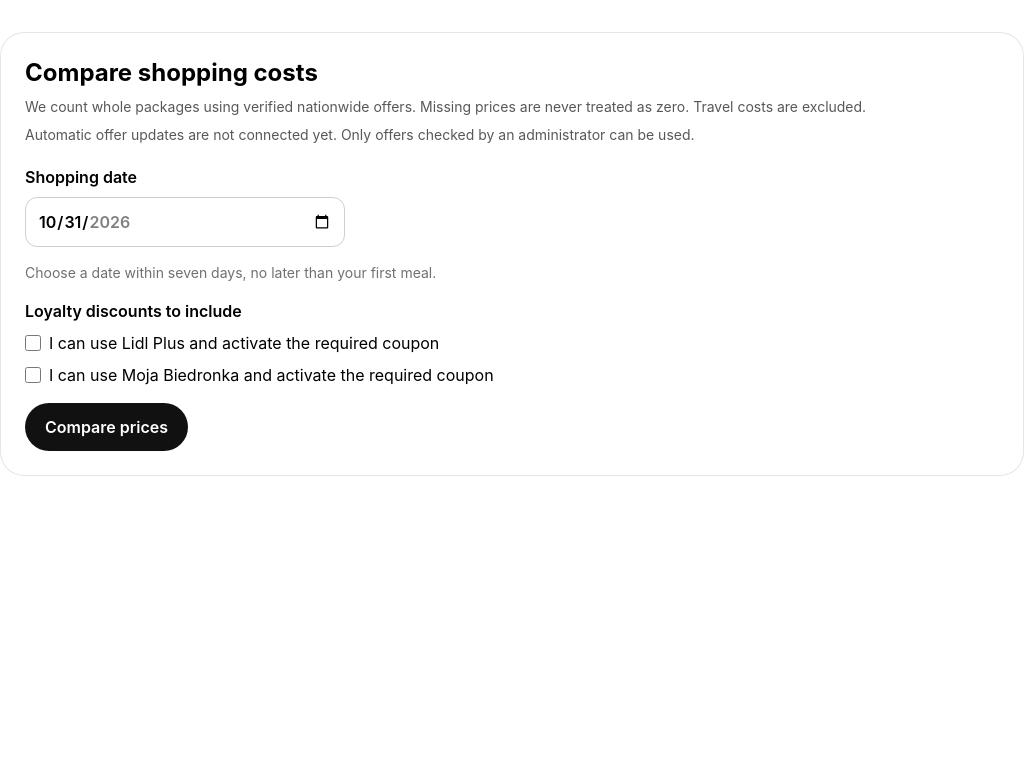
Meal plan pricing › does not present missing prices as a free basket or confirm budget
The width and height of the screenshot is (1024, 768).
Click the button "Compare prices" at x=106, y=427, box left=25, top=403, right=188, bottom=451
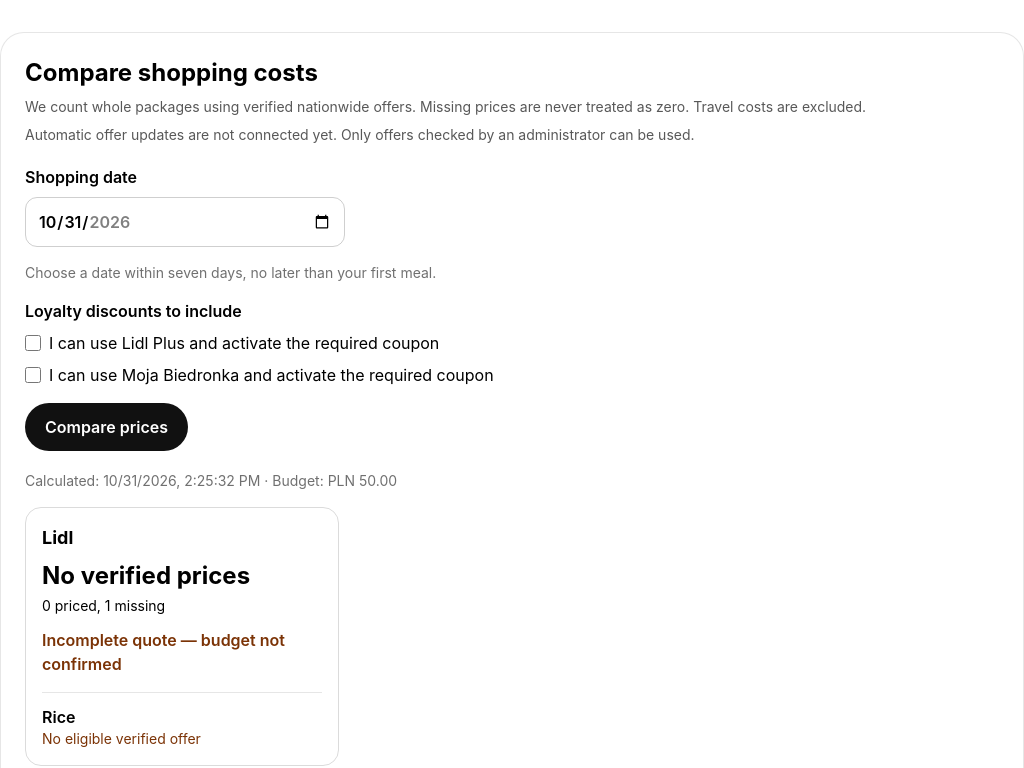
expect the text "No verified prices" is shown: met, box left=42, top=561, right=250, bottom=590
expect the text "Incomplete quote — budget not confirmed" is shown: met, box left=42, top=628, right=322, bottom=676
